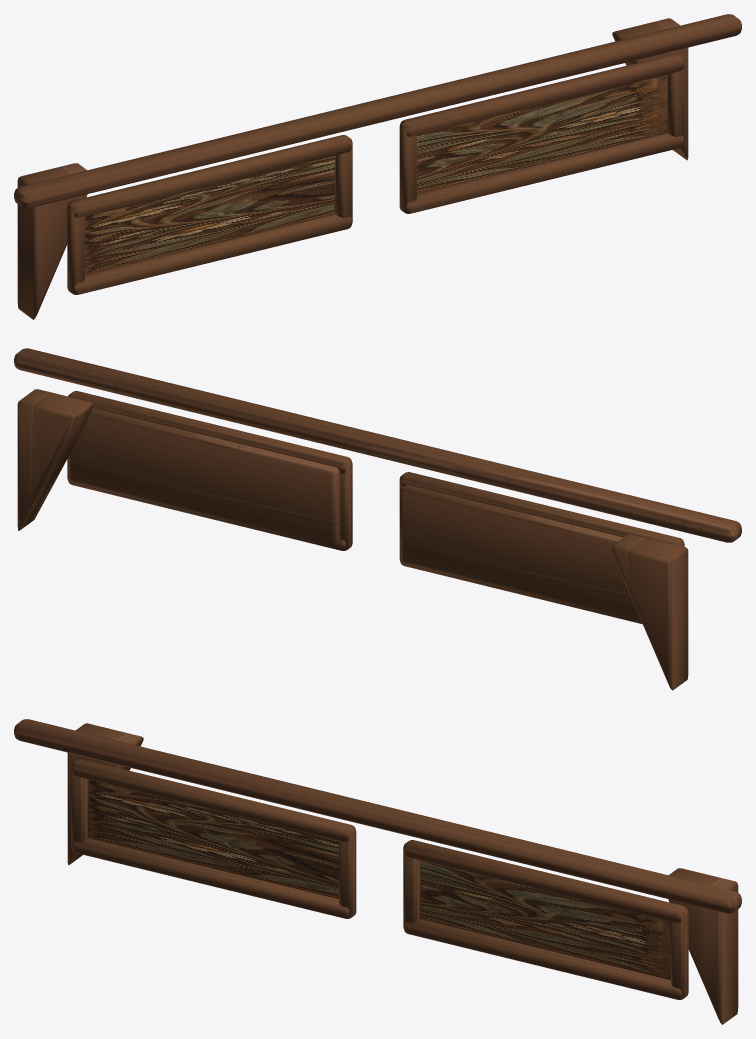
The model's file is CM_IL04_PrepTableCraft.fbx.
The picture shows the model from 3 angles, top to bottom: view 1: azimuth 30°, elevation 25°; view 2: azimuth 150°, elevation 25°; view 3: azimuth 330°, elevation 25°; orthographic projection.
Parts seen in each view (by area): view 1: CM_IL04_PrepTableCraft; view 2: CM_IL04_PrepTableCraft; view 3: CM_IL04_PrepTableCraft.
Part boxes in pixels (<box>): CM_IL04_PrepTableCraft: <box>14,14,741,319</box>; CM_IL04_PrepTableCraft: <box>14,348,741,690</box>; CM_IL04_PrepTableCraft: <box>14,719,741,1024</box>.
Size of the model in its own units: 1.52 by 0.3028 by 0.1485.
